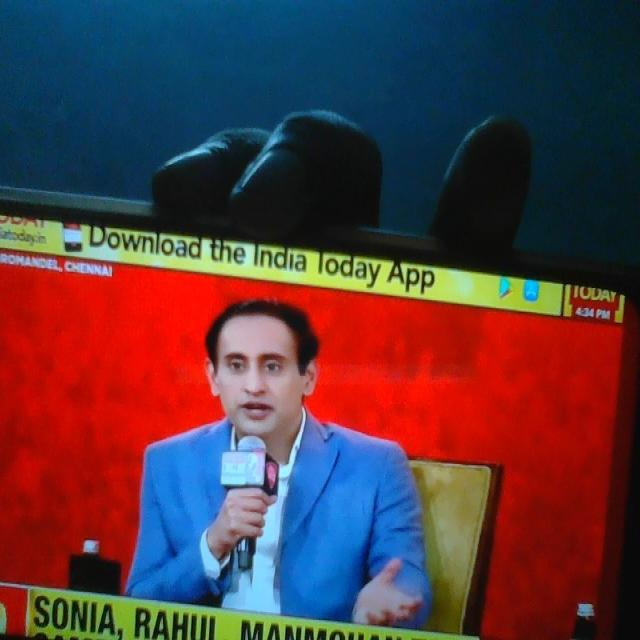fake: (208, 271, 308, 460)
